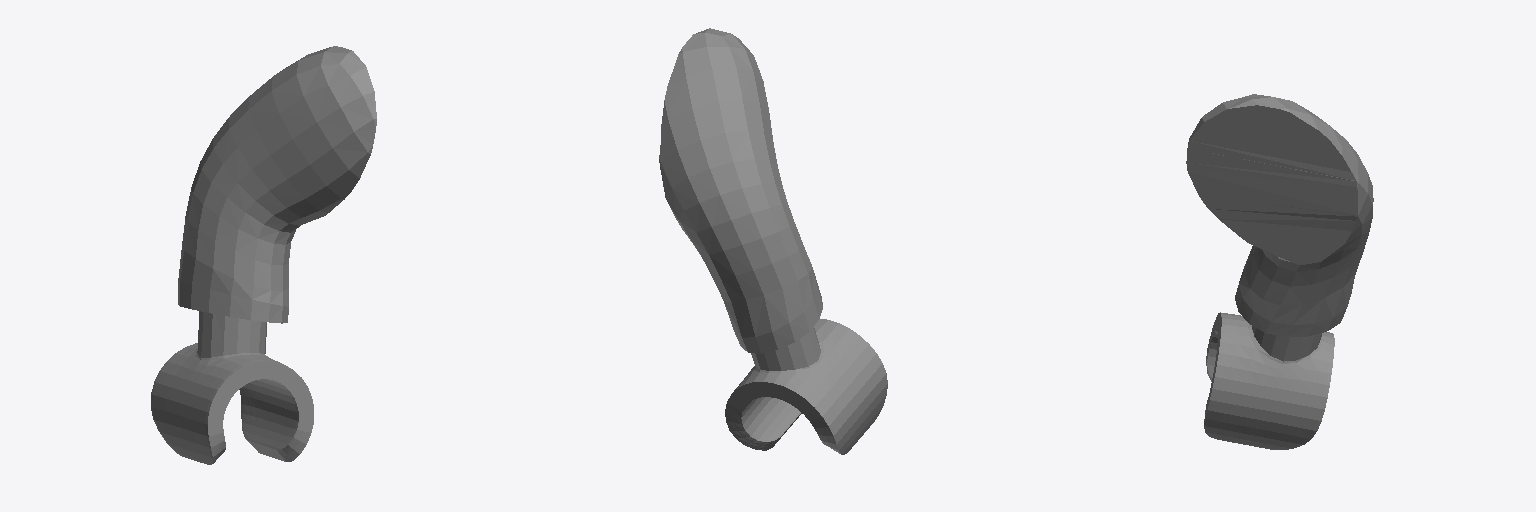
File: brazoDer.obj
3 views of the same model, side by side, from view 1: azimuth 30°, elevation 25°; view 2: azimuth 150°, elevation 25°; view 3: azimuth 270°, elevation 25° (orthographic).
Parts seen in each view (by area): view 1: brazoDerHomero; view 2: brazoDerHomero; view 3: brazoDerHomero.
Boxes of the visible parts, box(x1,y1,x2,y2) form: brazoDerHomero: box(151, 46, 376, 464); brazoDerHomero: box(659, 28, 887, 454); brazoDerHomero: box(1186, 94, 1373, 449).
Bounding box in the file's own units: 1.23 × 2.65 × 1.16.